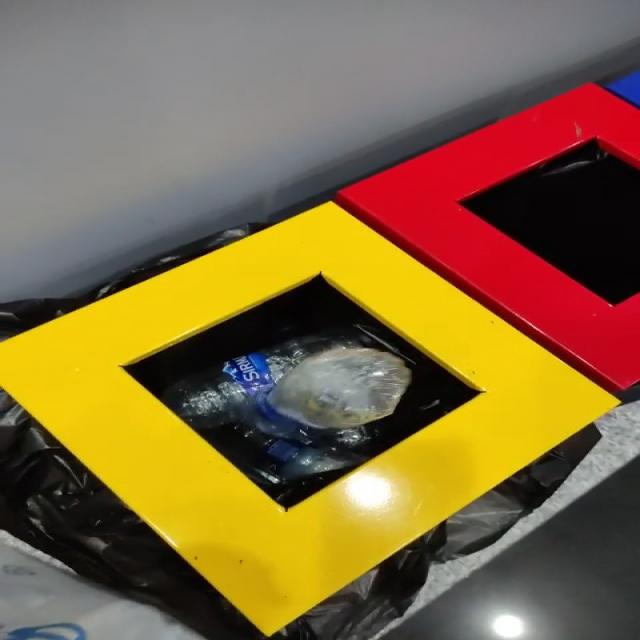plastic: (163, 331, 412, 479)
